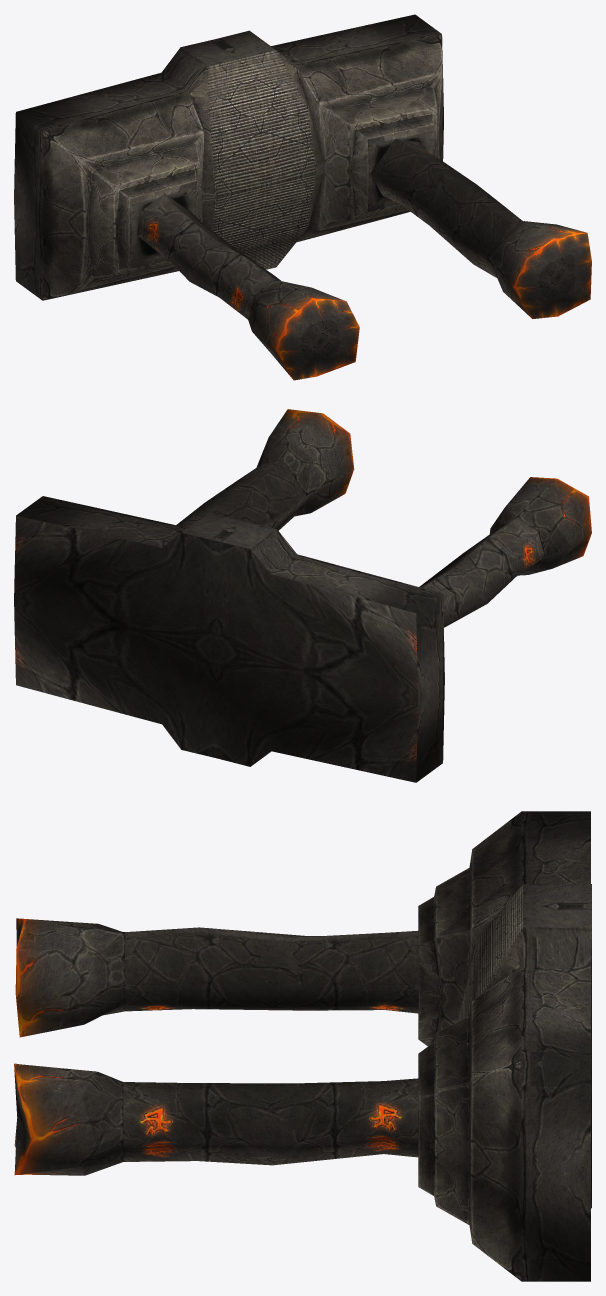
The model's file is Altar-gate-06.obj.
The picture shows the model from 3 angles, top to bottom: view 1: azimuth 30°, elevation 25°; view 2: azimuth 150°, elevation 25°; view 3: azimuth 270°, elevation 25°; orthographic projection. The views are drawn at different scales.
Visible parts, largest first — view 1: (null); view 2: (null); view 3: (null).
Boxes of the visible parts, x1,y1,x2,y2 form: (null): (14, 14, 591, 380); (null): (14, 409, 591, 782); (null): (14, 811, 591, 1281).
Size of the model in its own units: 7.83 by 4.04 by 7.52.
